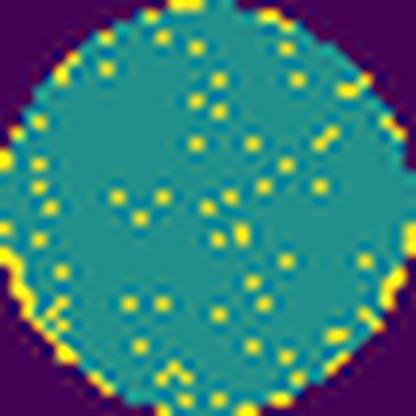Edge-Loc: (0, 243, 30, 326), (381, 267, 406, 316), (401, 213, 415, 257)
